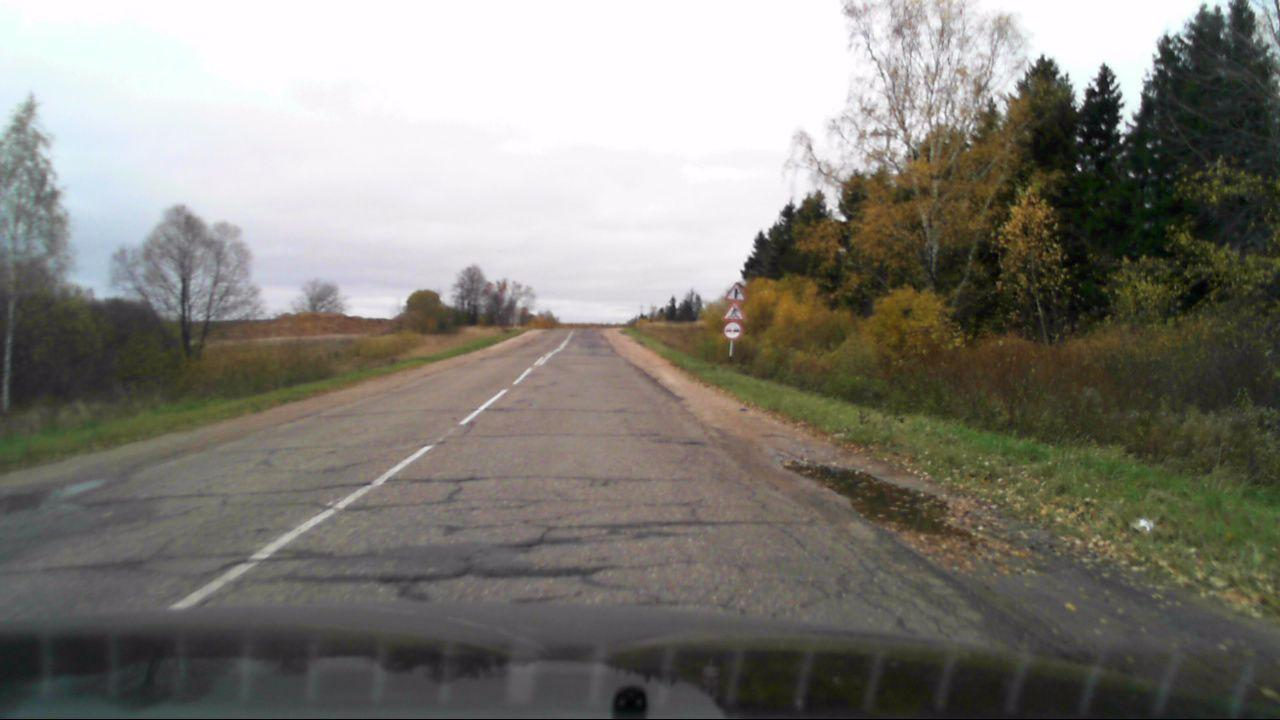road_sign: (719, 301, 750, 321), (722, 281, 750, 302), (723, 321, 742, 340)
